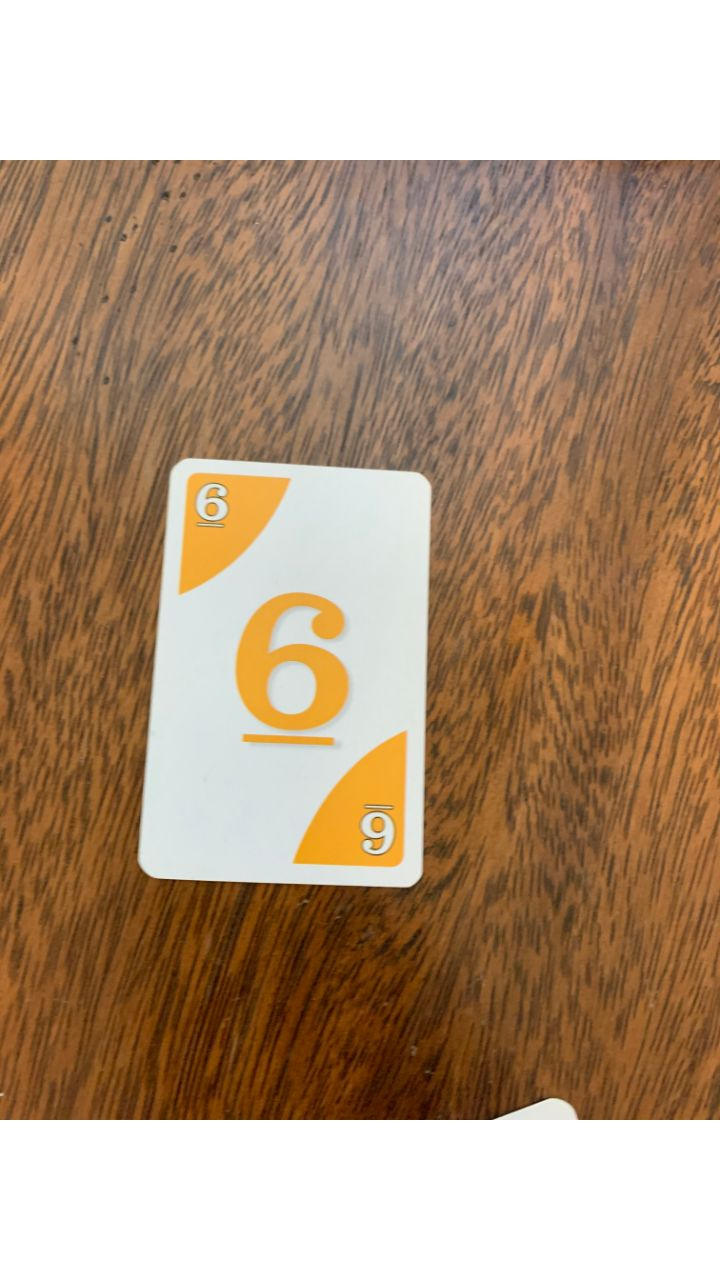six: (131, 454, 433, 897)
